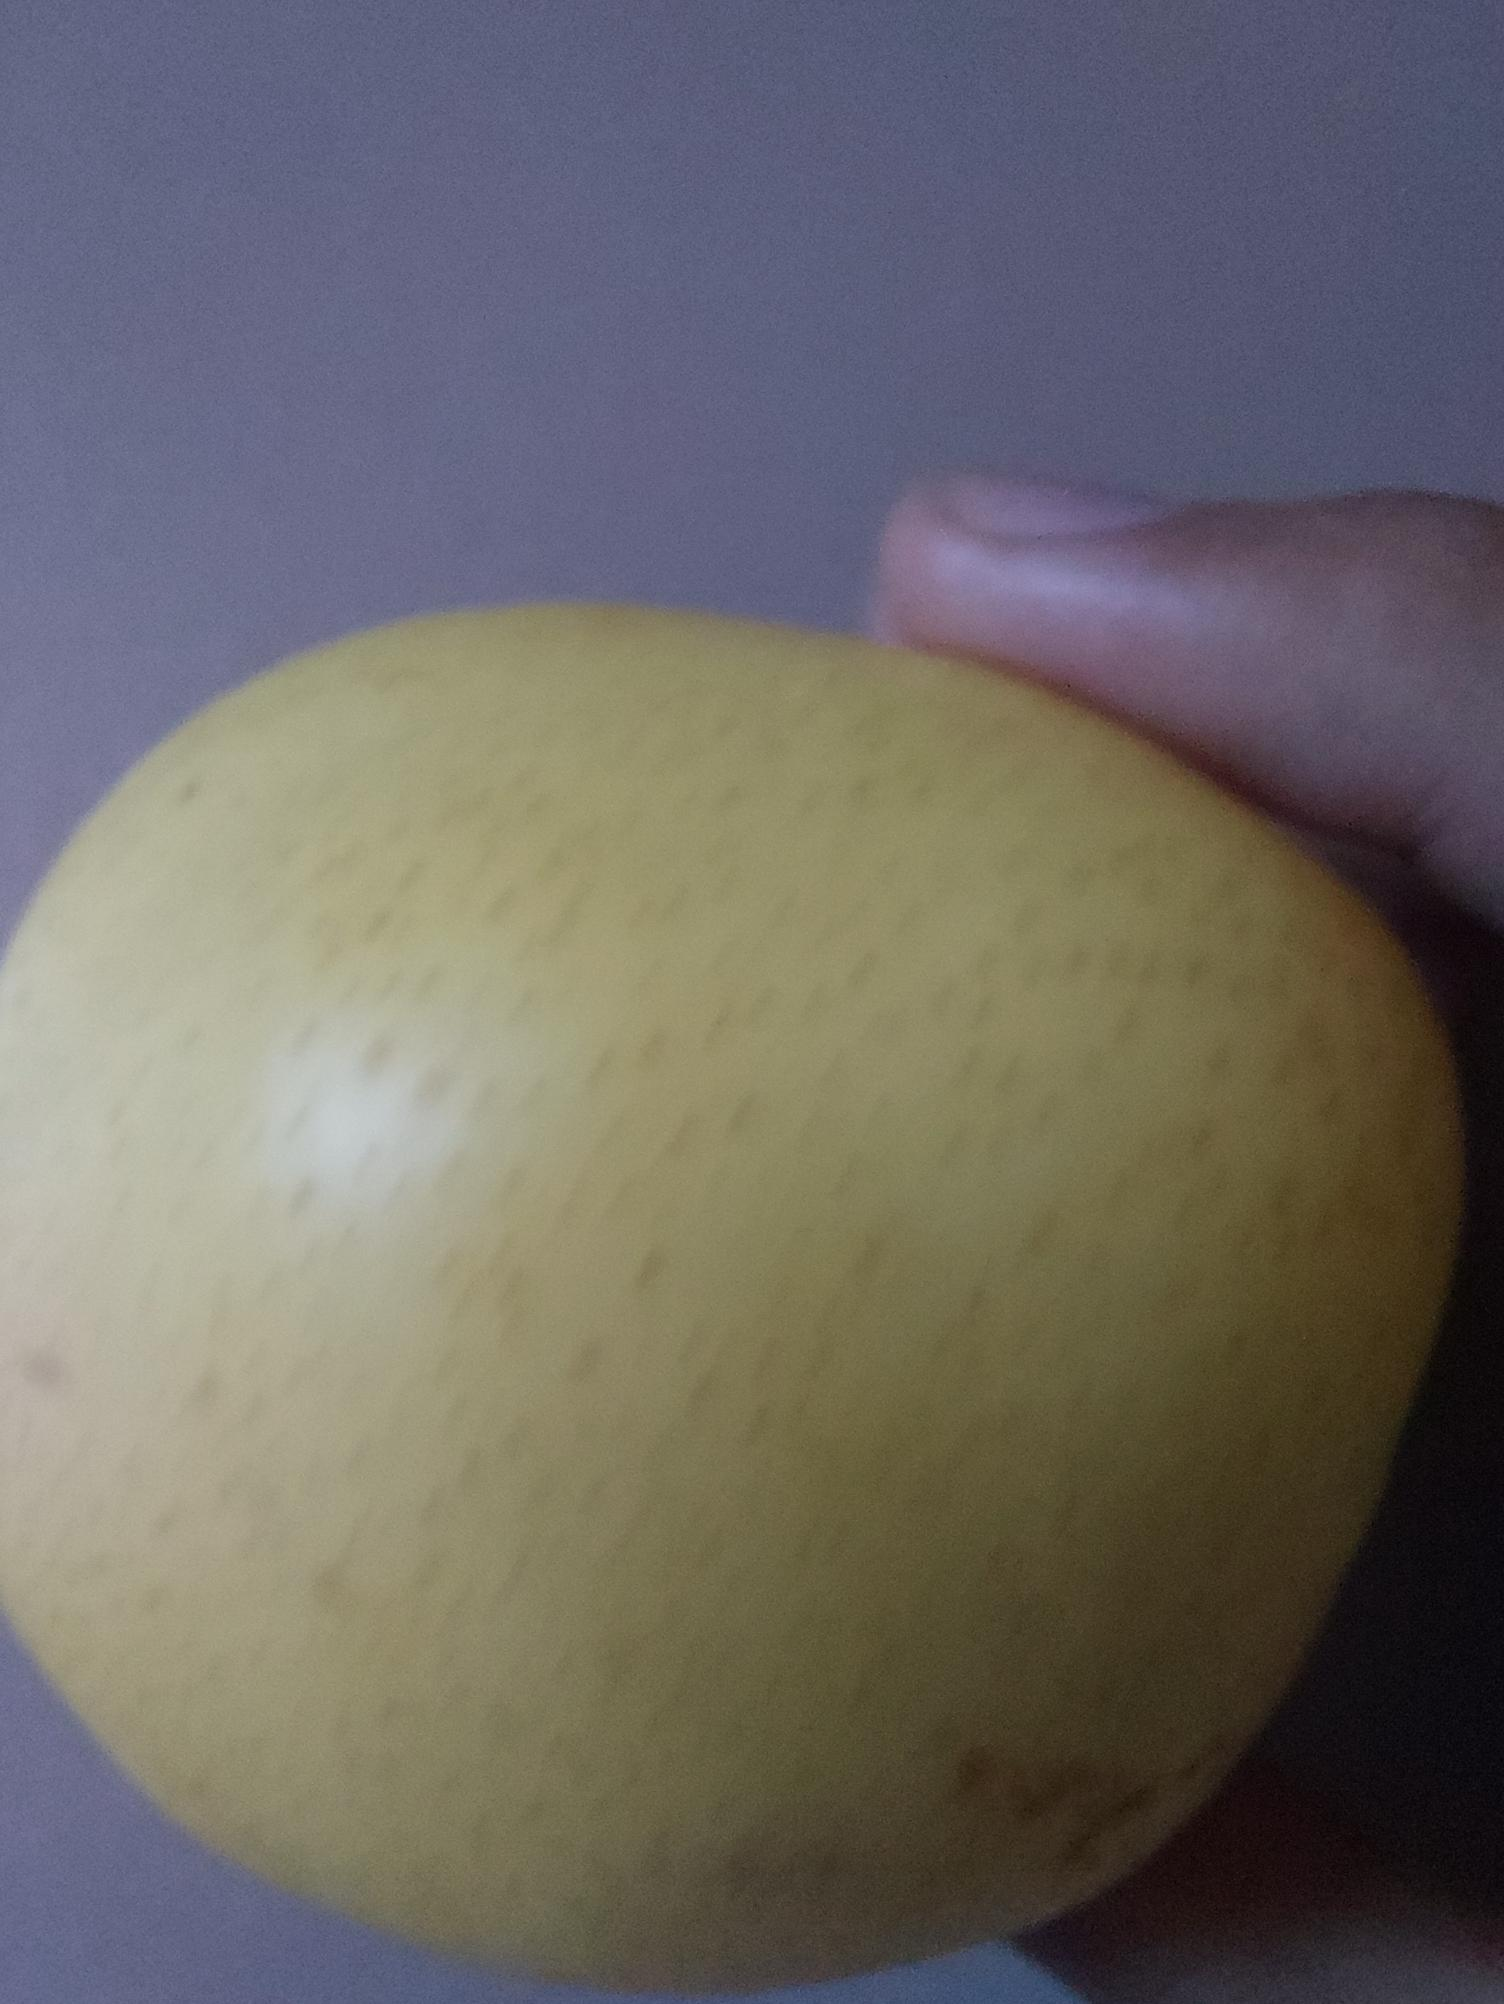Good Pear: (0, 605, 1460, 1969)
